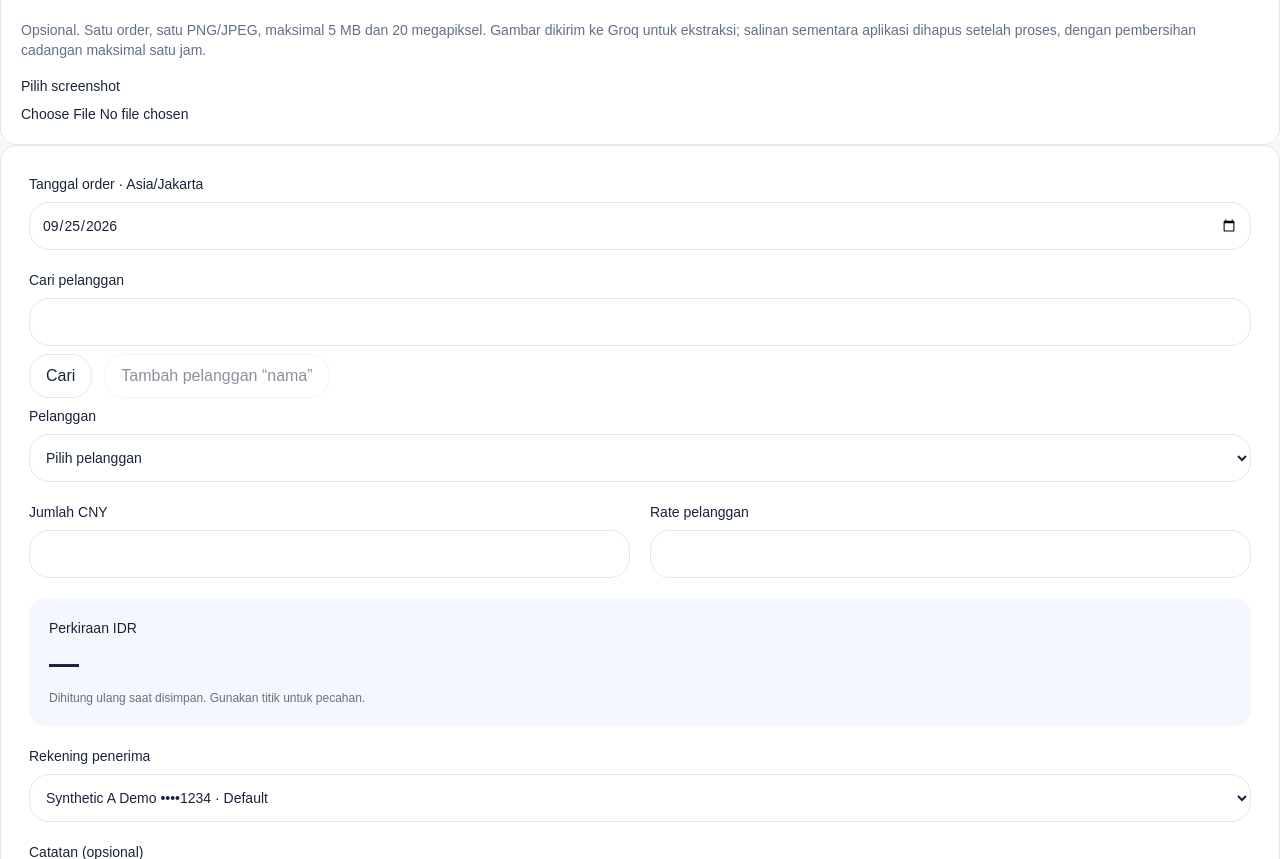
it: reloads date-specific choices without creating assignments
Step 1. Type "2026-09-26" into the date field labelled "Tanggal order · Asia/Jakarta" → [640, 226], box [29,202,1251,250]
(page scrolled)
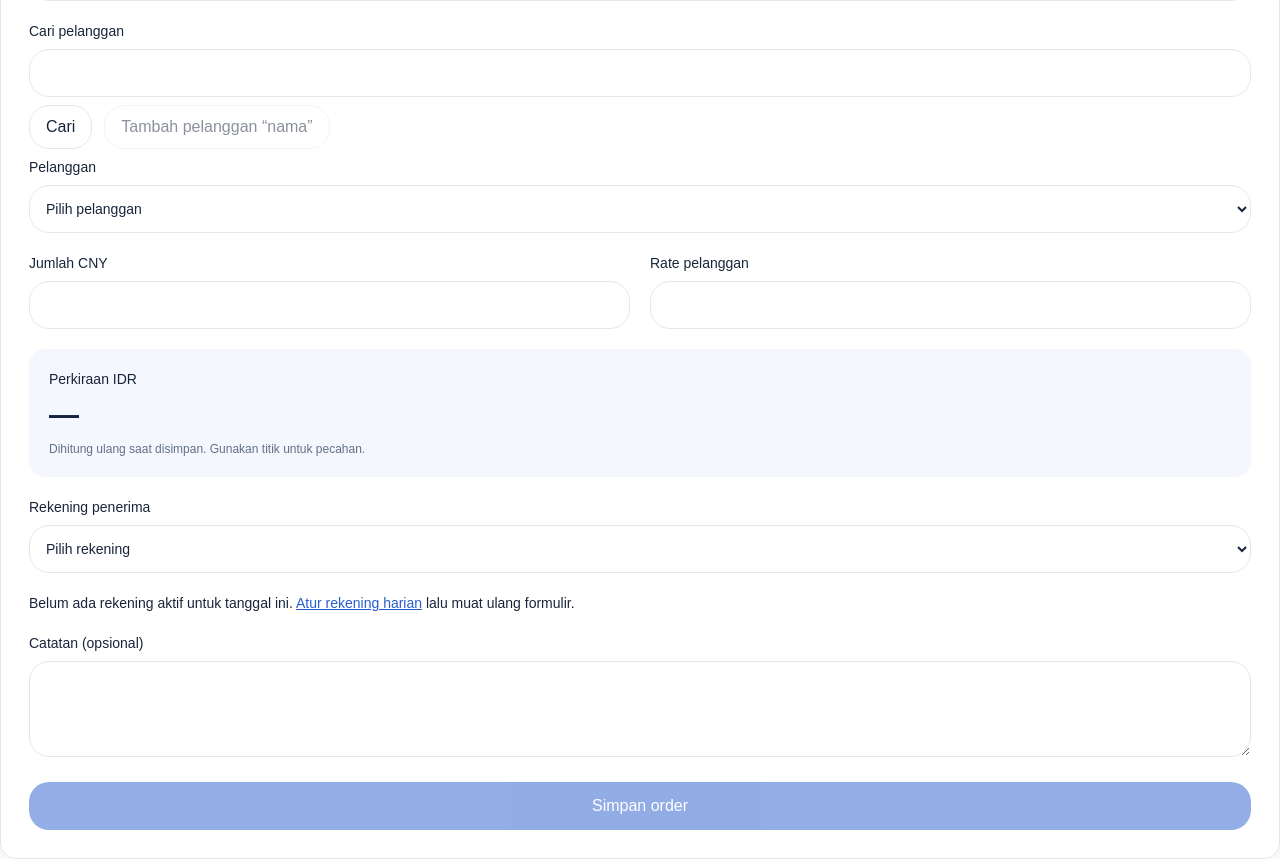
Check: the button "Simpan order" is disabled, box [29,782,1251,830]
Check: the dropdown labelled "Rekening penerima" shows "Pilih rekening", box [29,525,1251,573]
